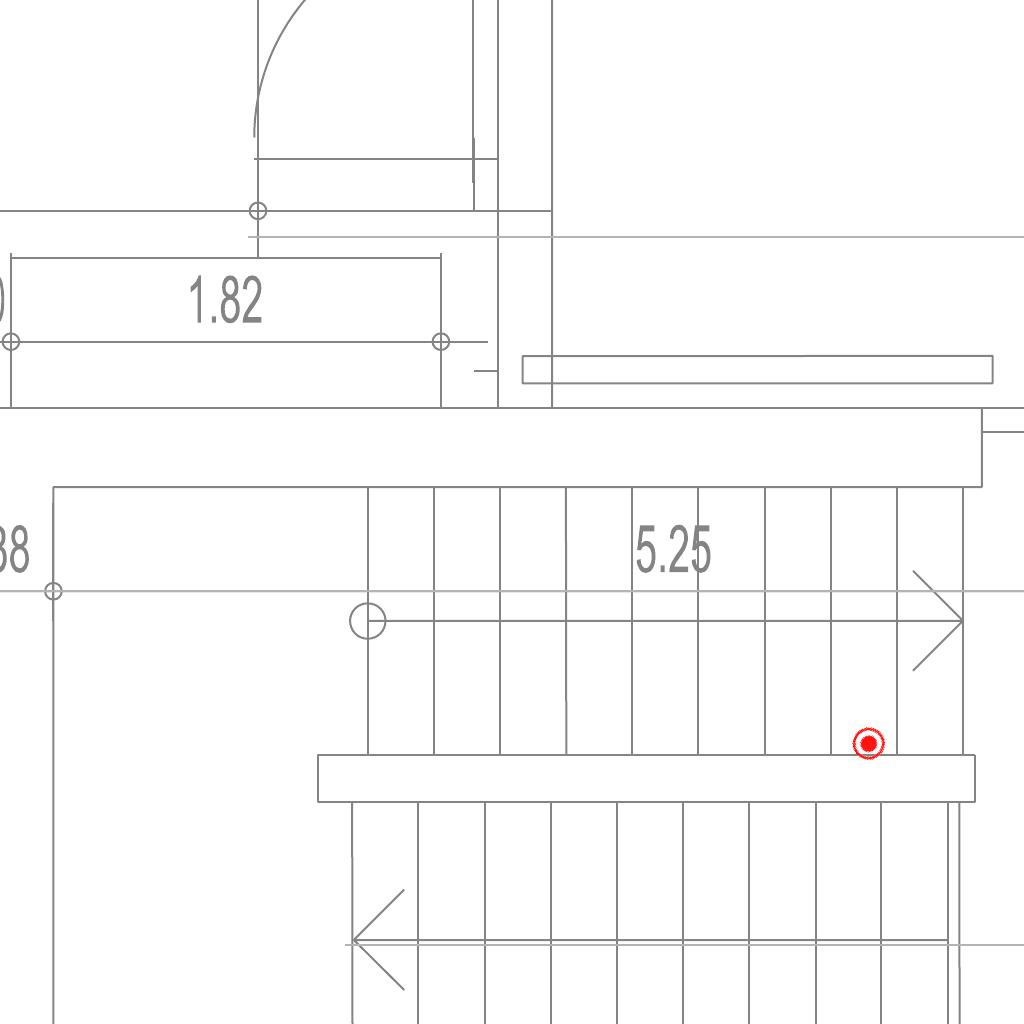Taster: (846, 720, 893, 767)
